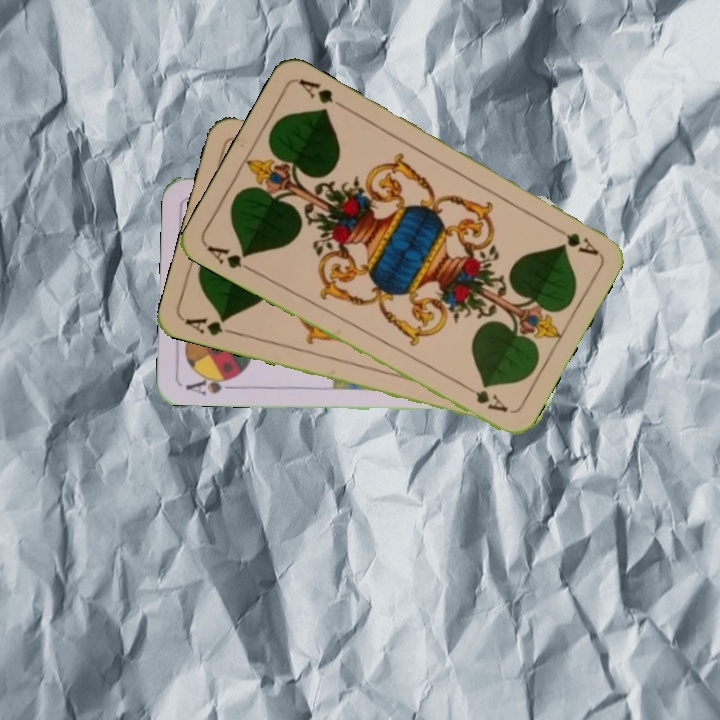GA: (547, 221, 601, 258), (203, 241, 258, 275), (181, 313, 239, 339)
SA: (181, 370, 240, 398)
